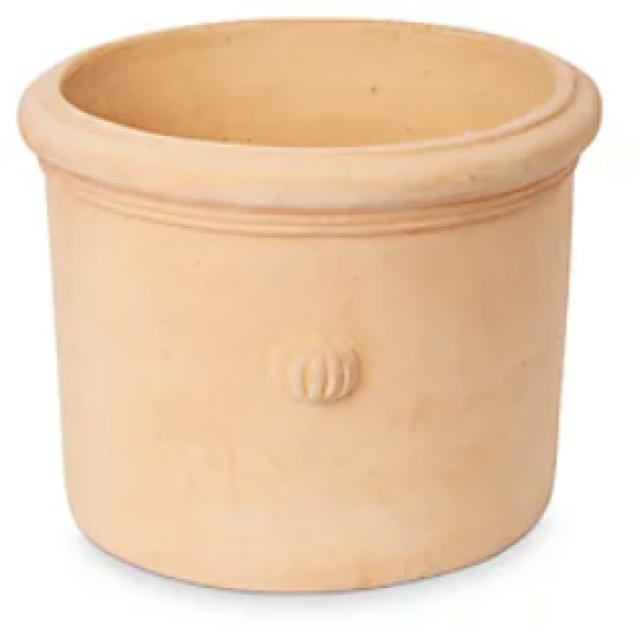Plant Pot: (9, 19, 590, 613)
